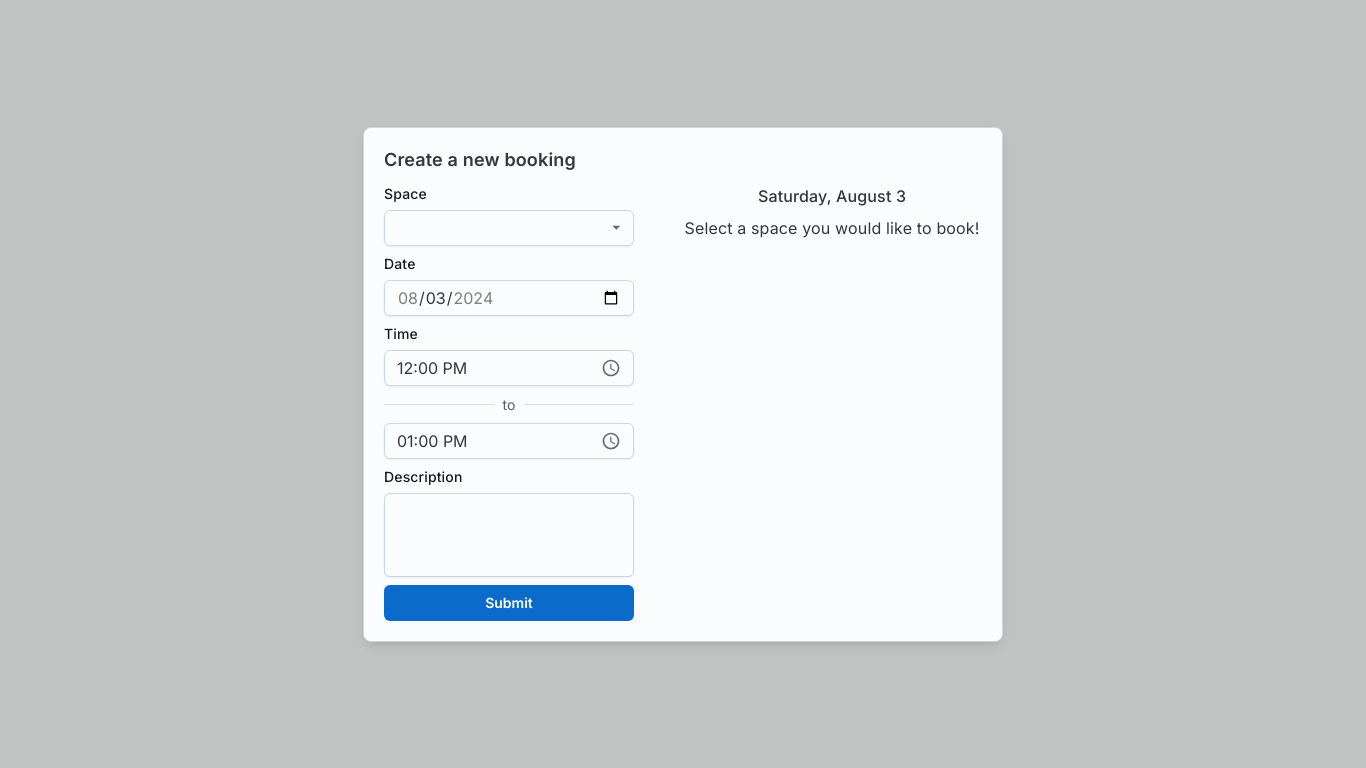
Scenario: BookingModal › moves end time with start time
Step 1. Click the field labelled "Time" → (495, 368), box [397,350,593,384]
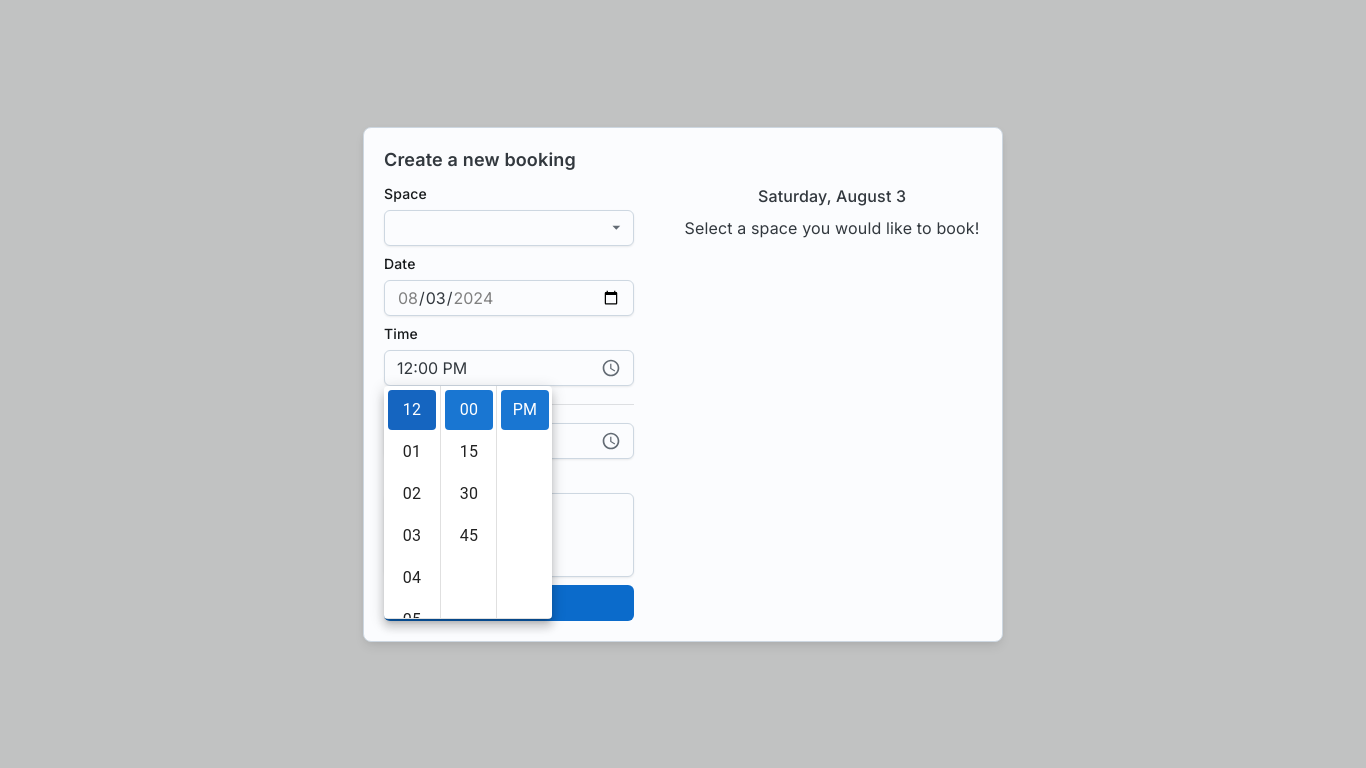
Step 2. Click the option named "4 hours" → (412, 578), box [403,568,421,587]
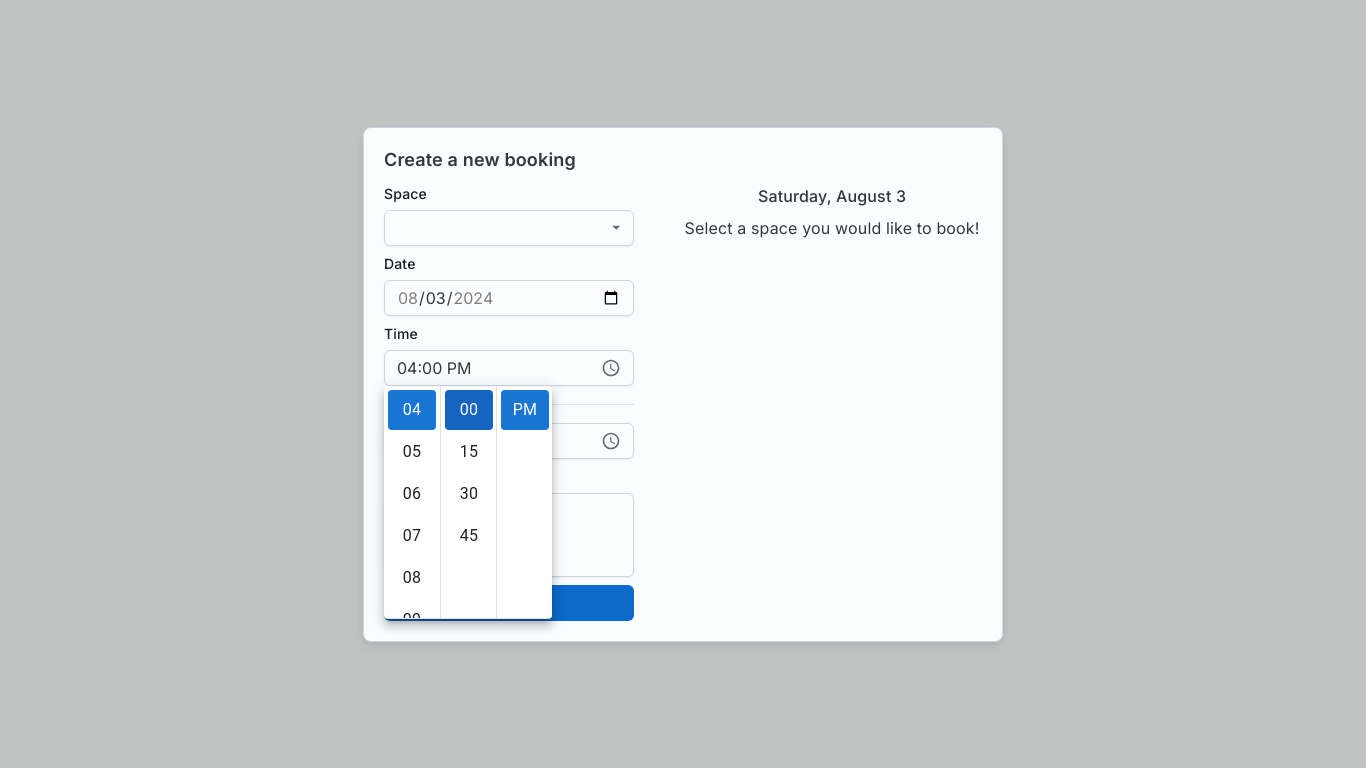
Step 3. Click the option named "15 minutes" → (469, 452), box [460,442,478,461]
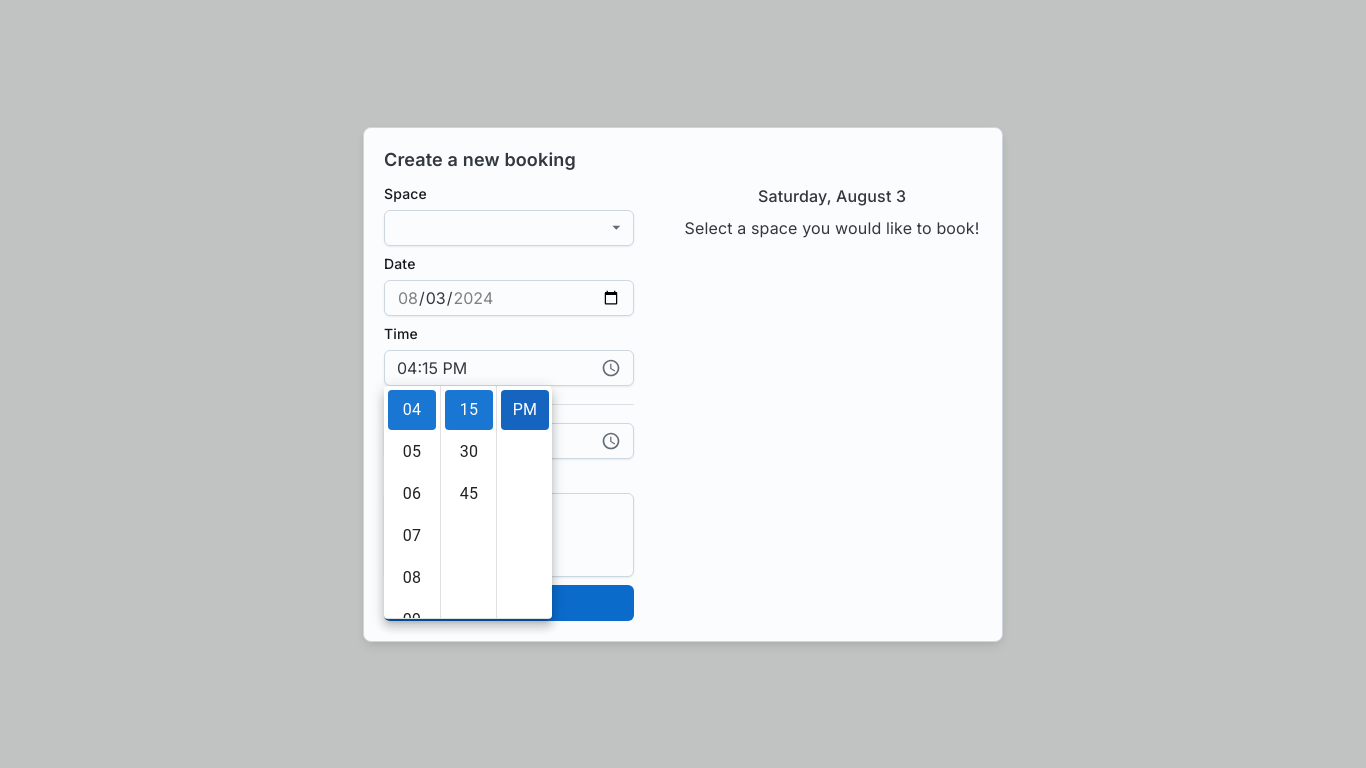
Expected: the field labelled "Time" holds "04:15 PM", [397,350,593,384]
Expected: the field named "End Time" holds "05:15 PM", [397,424,593,458]
